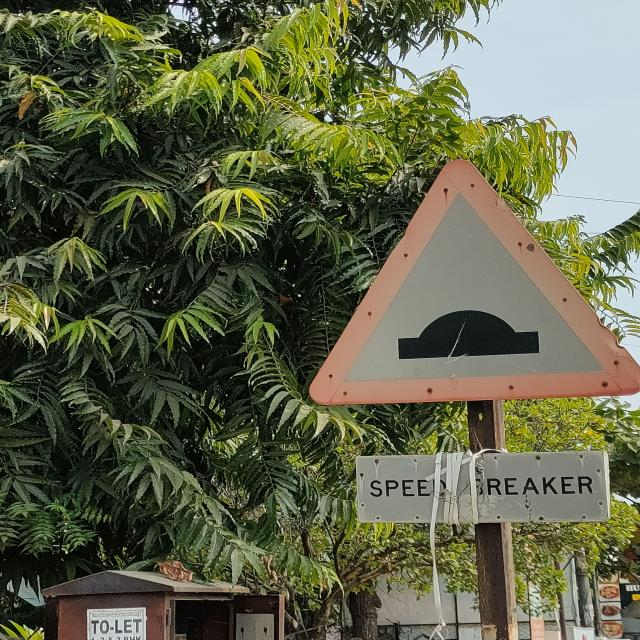horn_prohibited: (308, 160, 640, 402)
